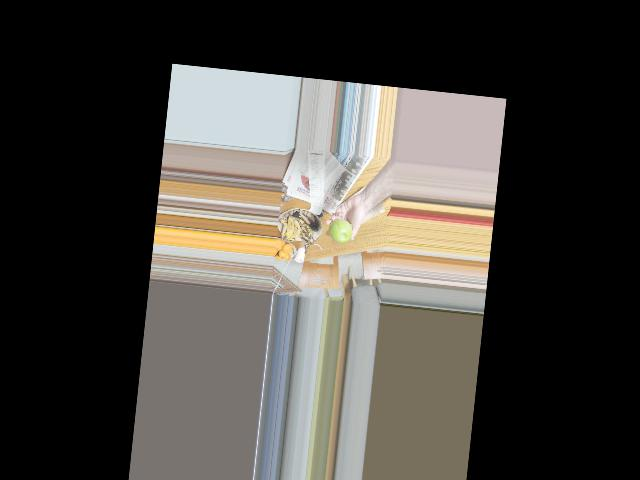apple: (328, 218, 354, 244)
